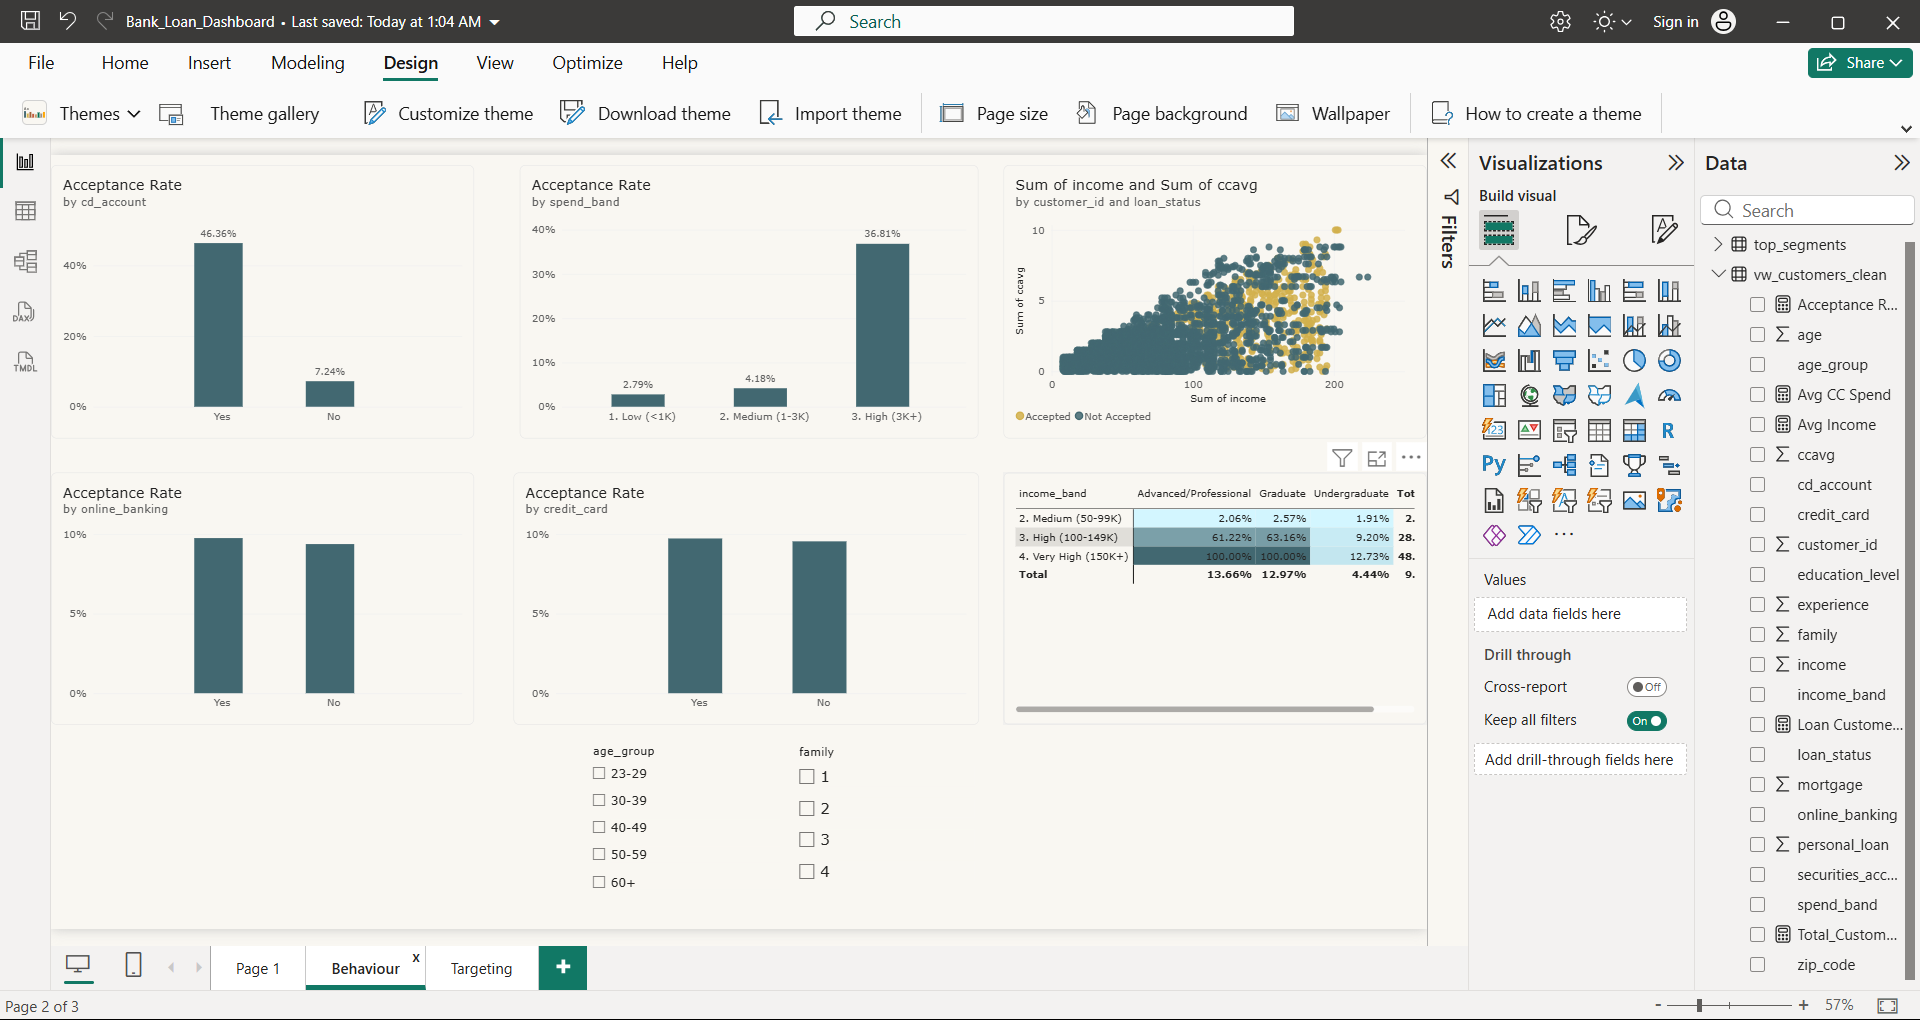

Layout of this report page (visuals, bound fields, positions):
{"tool":"powerbi","page":{"name":"Behaviour","canvas":[1920,1080],"ordinal":1},"visuals":[{"type":"clusteredColumnChart","fields":{"Category":["vw_customers_clean.cd_account"],"Y":["vw_customers_clean.Acceptance Rate"]},"box":[0,14.7,590.6,381.5],"z":0},{"type":"clusteredColumnChart","fields":{"Category":["vw_customers_clean.spend_band"],"Y":["vw_customers_clean.Acceptance Rate"]},"box":[654.8,14.7,640.2,381.5],"z":1000},{"type":"clusteredColumnChart","fields":{"Category":["vw_customers_clean.online_banking"],"Y":["vw_customers_clean.Acceptance Rate"]},"box":[0,443.9,590.6,352.2],"z":2000},{"type":"clusteredColumnChart","fields":{"Category":["vw_customers_clean.credit_card"],"Y":["vw_customers_clean.Acceptance Rate"]},"box":[645.7,443.9,649.3,352.2],"z":3000},{"type":"scatterChart","fields":{"Category":["vw_customers_clean.customer_id"],"Series":["vw_customers_clean.loan_status"],"X":["Sum(vw_customers_clean.income)"],"Y":["Sum(vw_customers_clean.ccavg)"]},"box":[1329.8,14.7,590.6,381.5],"z":4000},{"type":"pivotTable","fields":{"Columns":["vw_customers_clean.education_level"],"Rows":["vw_customers_clean.income_band"],"Values":["vw_customers_clean.Acceptance Rate"]},"box":[1329.8,443.9,590.6,352.2],"z":5000},{"type":"slicer","fields":{"Values":["vw_customers_clean.age_group"]},"box":[748.4,821.7,269.6,231.1],"z":6000},{"type":"slicer","fields":{"Values":["vw_customers_clean.family"]},"box":[1036.4,823.6,253.1,229.3],"z":6001}]}

Visuals, with their boxes on the page's 1920x1080 design canvas (x1, y1, x2, y2). These are canvas units, not pixel positions in the 1920x1020 screenshot, which may show the page scaled, cropped or inside an application window:
clusteredColumnChart - vw_customers_clean.cd_account x vw_customers_clean.Acceptance Rate: select_region(0, 15, 591, 396)
clusteredColumnChart - vw_customers_clean.spend_band x vw_customers_clean.Acceptance Rate: select_region(655, 15, 1295, 396)
clusteredColumnChart - vw_customers_clean.online_banking x vw_customers_clean.Acceptance Rate: select_region(0, 444, 591, 796)
clusteredColumnChart - vw_customers_clean.credit_card x vw_customers_clean.Acceptance Rate: select_region(646, 444, 1295, 796)
scatterChart - vw_customers_clean.customer_id x vw_customers_clean.loan_status: select_region(1330, 15, 1920, 396)
pivotTable - vw_customers_clean.education_level x vw_customers_clean.income_band: select_region(1330, 444, 1920, 796)
slicer - vw_customers_clean.age_group: select_region(748, 822, 1018, 1053)
slicer - vw_customers_clean.family: select_region(1036, 824, 1290, 1053)
